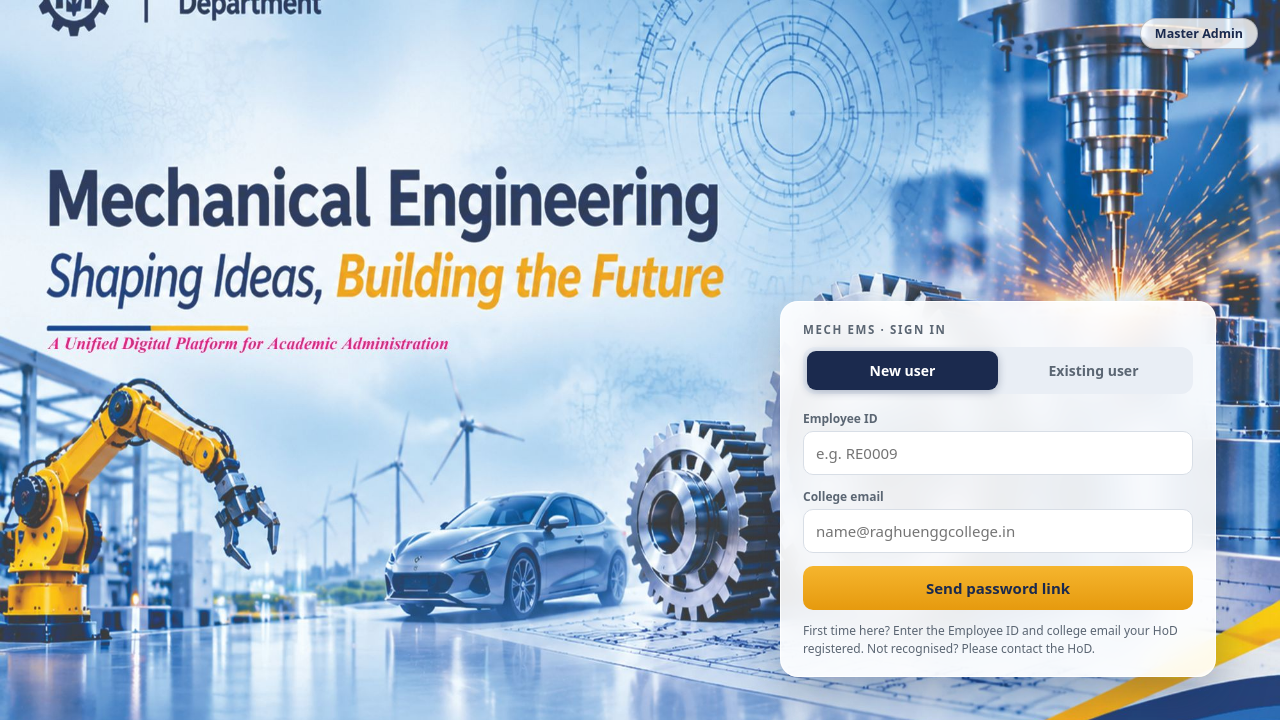
it: when they do not match, the person is told to contact the HoD and no mail is sent
The image size is (1280, 720).
Type "RE0009" into the field labelled "Employee ID" at (998, 453), box [803,431,1193,475]
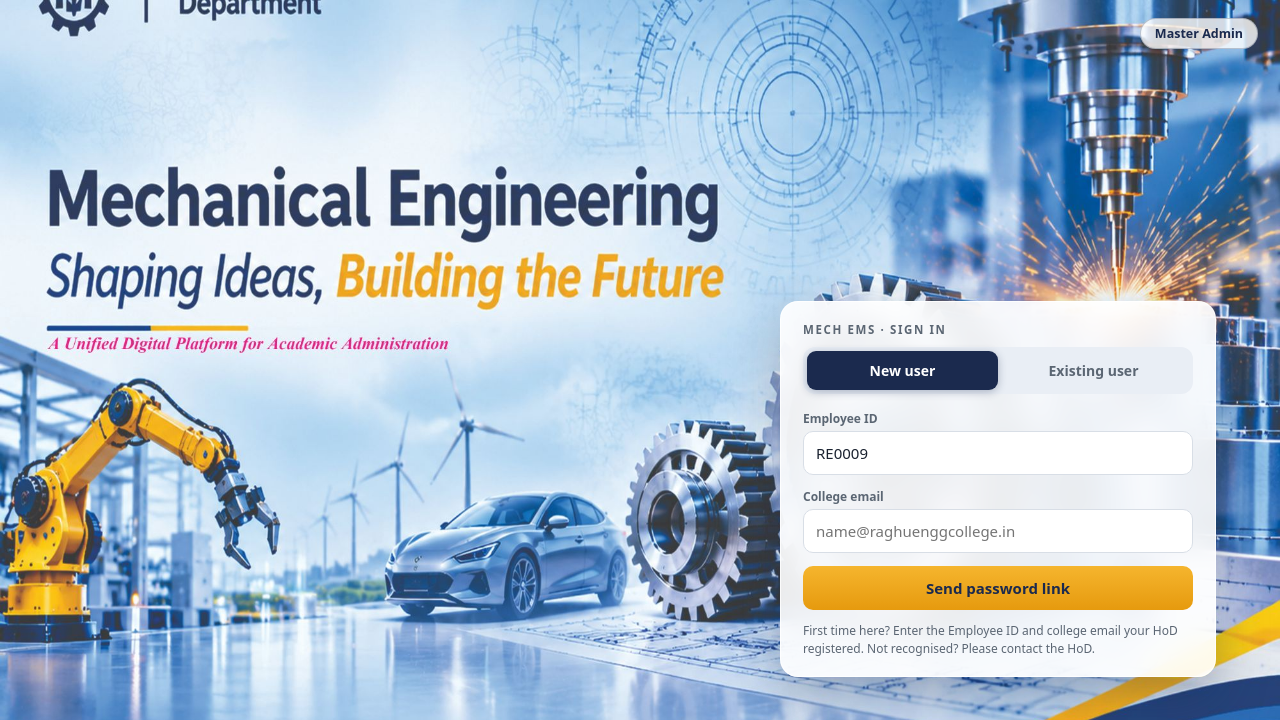
Type "me@raghuenggcollege.in" into the field labelled "College email" at (998, 531), box [803,509,1193,553]
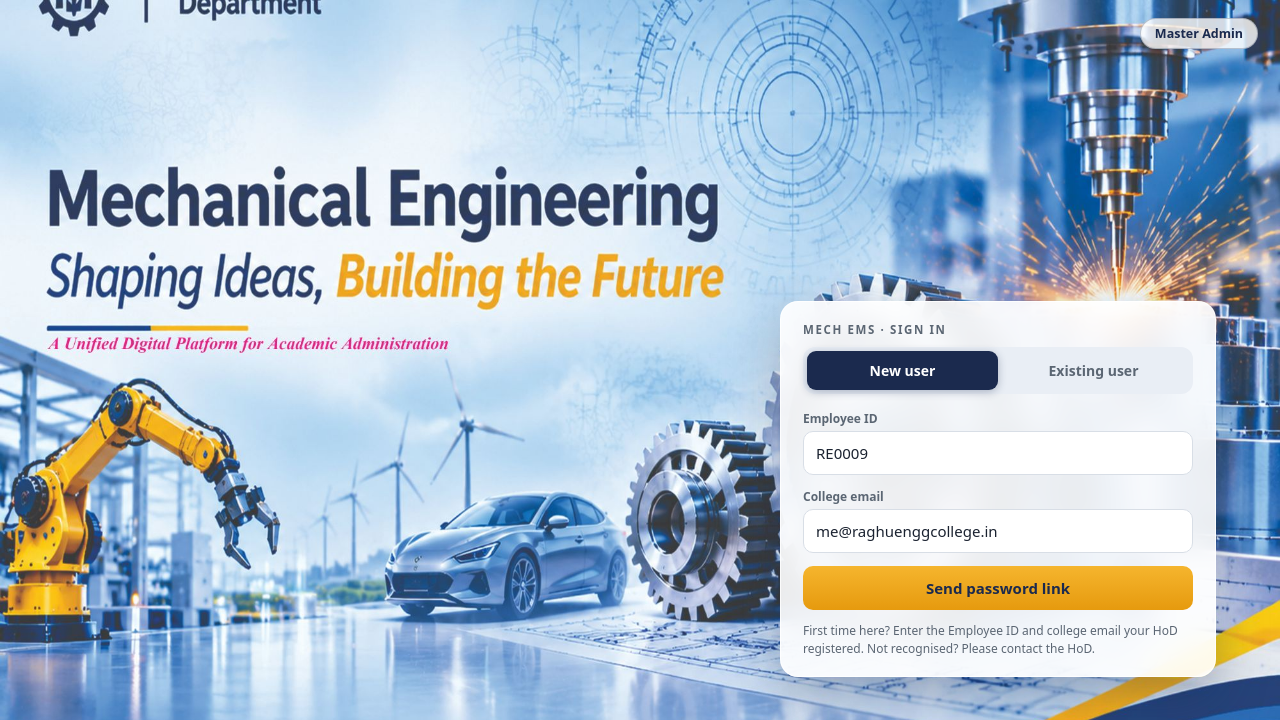
Click the button "Send password link" at (998, 588), box [803,566,1193,610]
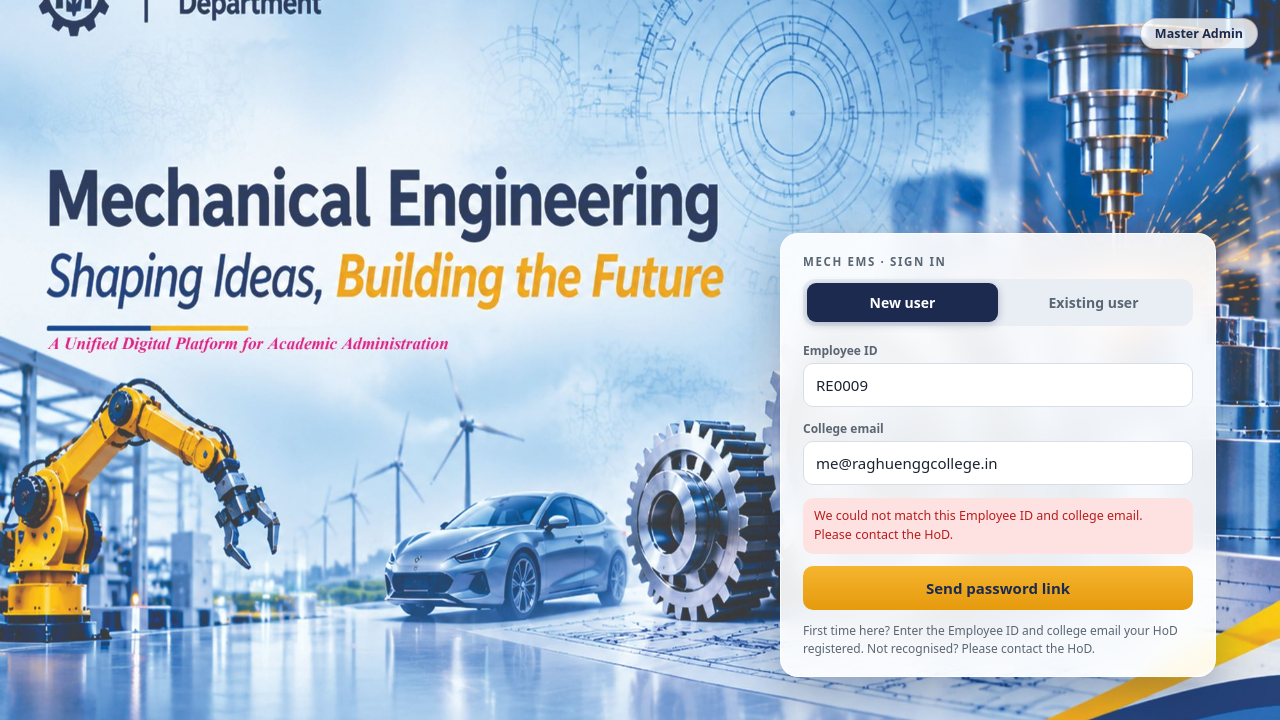
Now the text "We could not match this Employee ID and college email. Please contact the HoD." is shown, box [803,498,1193,554]
